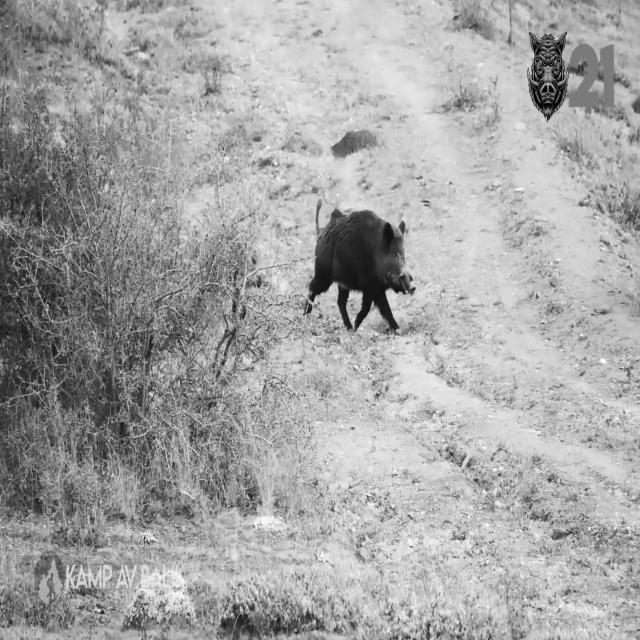boar: (304, 200, 415, 329)
